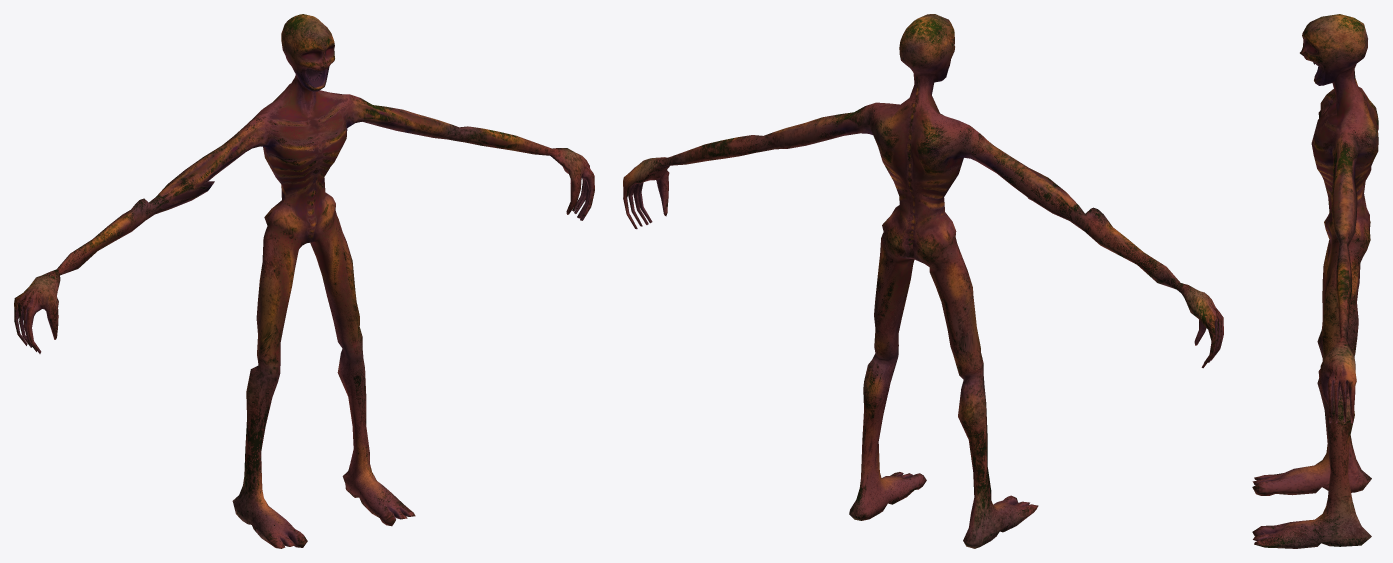
File: creature_002.glb
The picture shows the model from 3 angles, left to right: view 1: azimuth 30°, elevation 25°; view 2: azimuth 150°, elevation 25°; view 3: azimuth 270°, elevation 25°; orthographic projection. The views are drawn at different scales.
Parts seen in each view (by area): view 1: Object_2; view 2: Object_2; view 3: Object_2.
Part boxes in pixels (x1=…): Object_2: x1=14, y1=14, x2=594, y2=548; Object_2: x1=623, y1=14, x2=1223, y2=548; Object_2: x1=1252, y1=14, x2=1378, y2=548.
Bounding box in the file's own units: 3.46 × 2.84 × 0.6495.
1 material, 1 textured.
